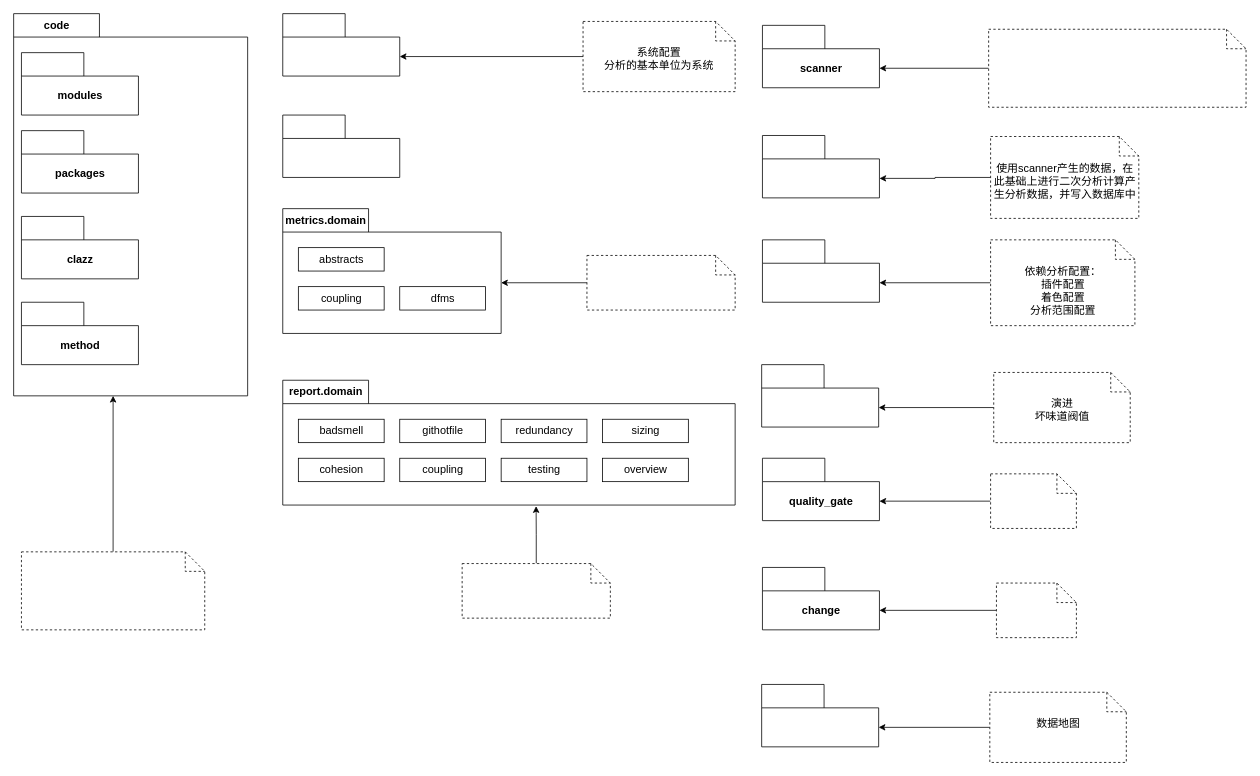
The diagram is 1260 pixels wide and 776 high, and some of its shapes have lost their labels. The shapes that lost their labels are listed below. From the top down, each one's centre as x and y in pixels, then its label:
At point (341, 44): "system_info".
At point (1117, 67): "调用https://github.com/archguard/scanner/ 提供的扫描工具的jar包，将分析后的数据写入到数据库中，供后续分析使用".
At point (341, 145): "common".
At point (820, 166): "scanner2".
At point (660, 282): "抽象程度、耦合度、DFMS 指标".
At point (820, 270): "config".
At point (820, 395): "evaluation".
At point (1033, 500): "质量门禁".
At point (113, 590): "module->package->class->method/field四层代码模型， 数据来源于scan_javasource工具".
At point (535, 590): "各种代码质量相关的指标".
At point (1036, 610): "变更影响".
At point (820, 715): "datamap".
